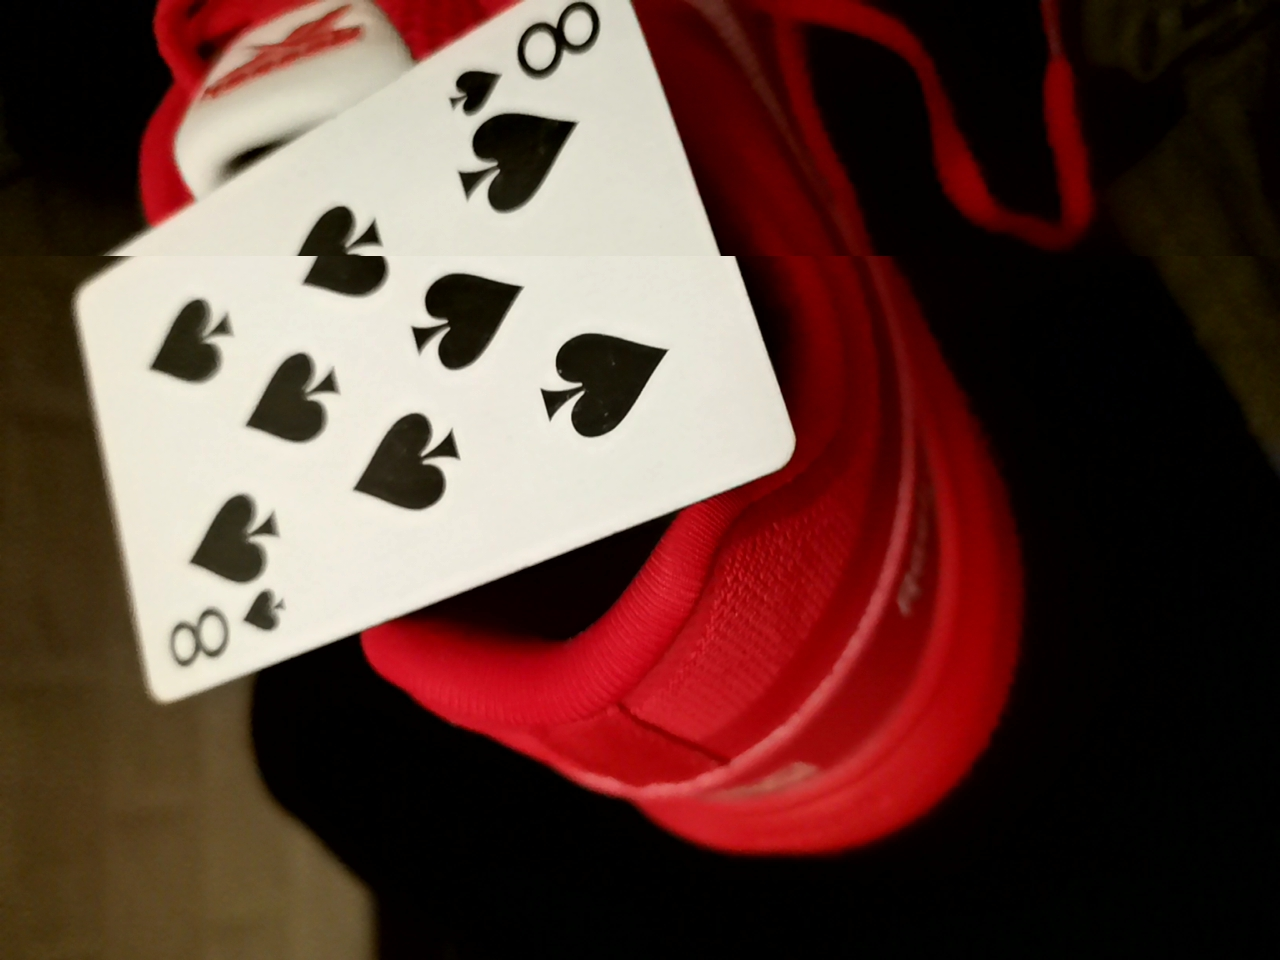ht 8: (37, 14, 805, 700)
